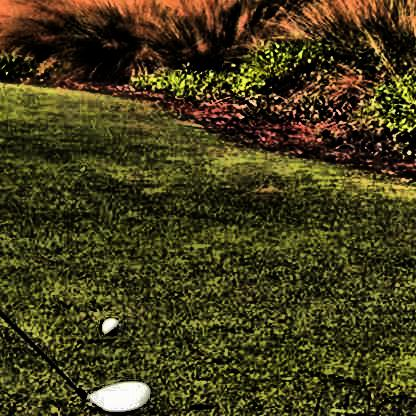golfball: (98, 314, 119, 334)
